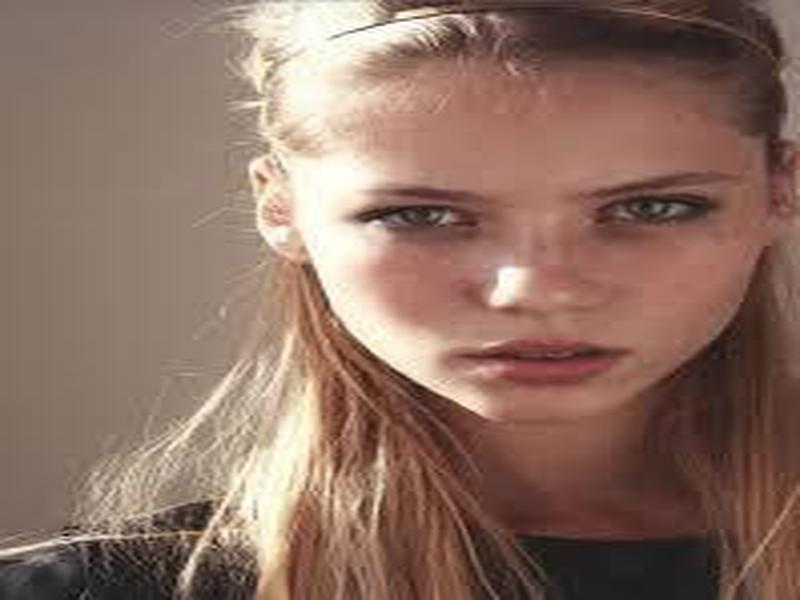without_mask: (285, 85, 744, 427)
